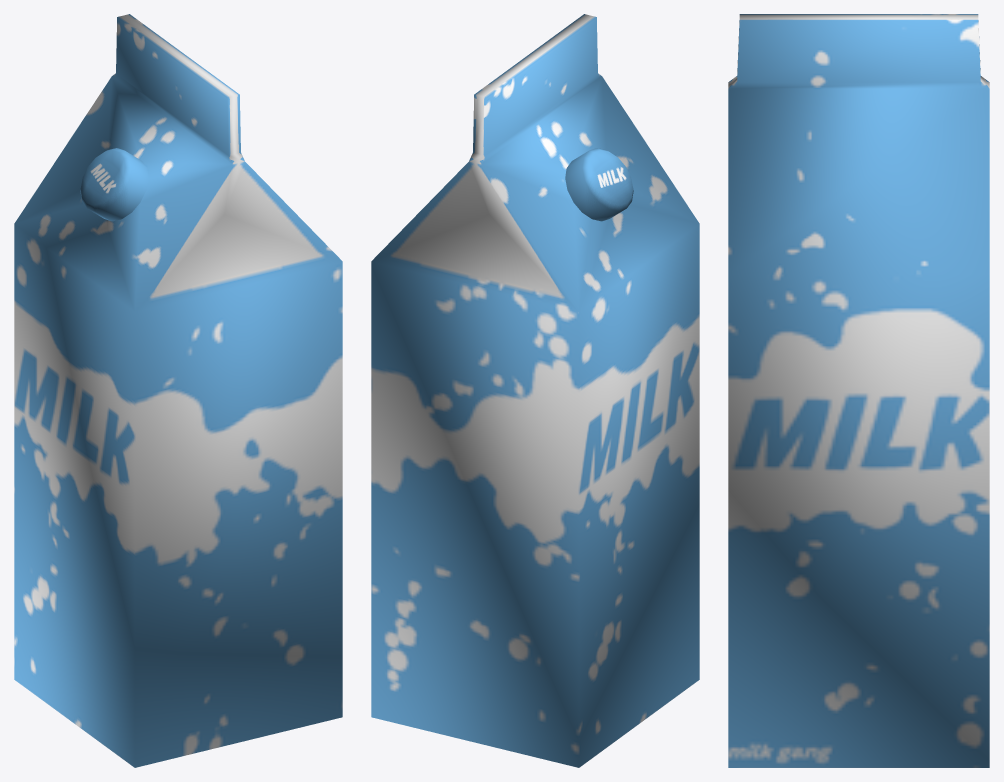
The model's file is milwithtext.glb.
3 renders of one model, left to right at view 1: azimuth 30°, elevation 25°; view 2: azimuth 150°, elevation 25°; view 3: azimuth 270°, elevation 25°, orthographic. The views are drawn at different scales.
Visible parts, largest first — view 1: milwithtext, milwithtext.001; view 2: milwithtext, milwithtext.001; view 3: milwithtext.
Boxes of the visible parts, left/top/right/bottom form: milwithtext: left=14, top=14, right=342, bottom=767; milwithtext.001: left=80, top=148, right=148, bottom=221; milwithtext: left=371, top=14, right=699, bottom=767; milwithtext.001: left=565, top=148, right=633, bottom=221; milwithtext: left=728, top=14, right=989, bottom=767.
Bounding box in the file's own units: 0.1732 × 0.5116 × 0.1742.
Materials: 1 (1 with a texture image).
